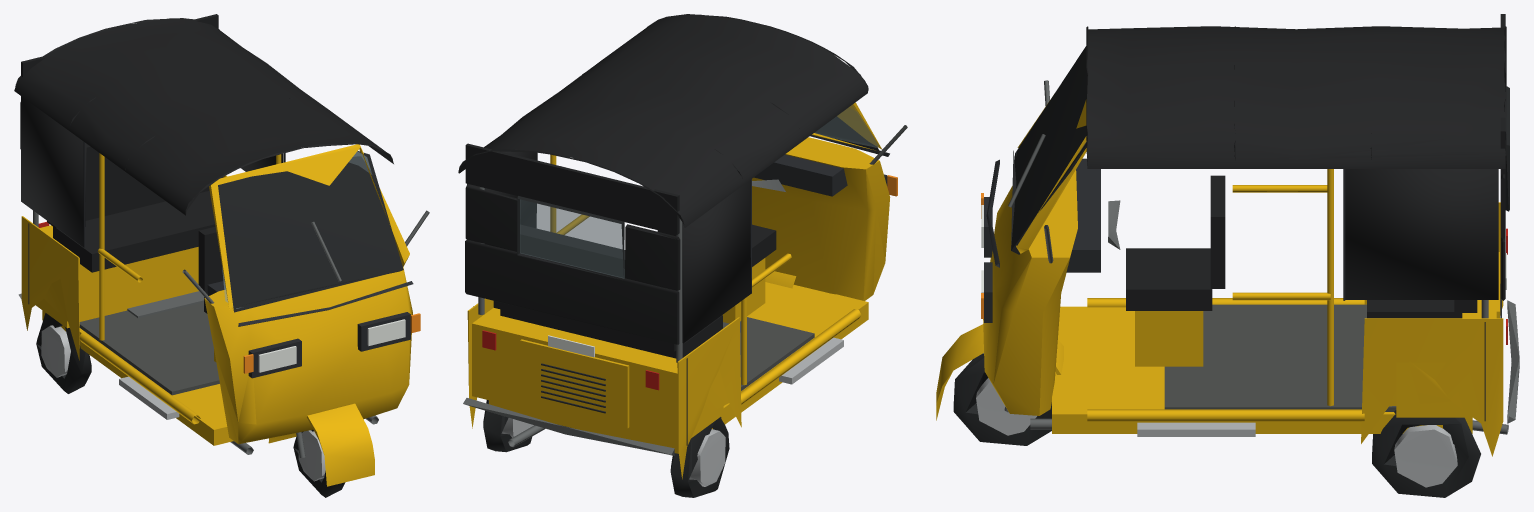
The model's file is keke_tvs_lod2.glb.
The picture shows the model from 3 angles, left to right: view 1: azimuth 30°, elevation 25°; view 2: azimuth 150°, elevation 25°; view 3: azimuth 270°, elevation 25°; orthographic projection. The views are drawn at different scales.
Parts seen in each view (by area): view 1: Body; view 2: Body; view 3: Body.
Boxes of the visible parts, x1,y1,x2,y2 form: Body: (14,14,429,497); Body: (458,14,907,497); Body: (936,14,1519,497).
Bounding box in the file's own units: 1.54 × 1.89 × 2.57.
